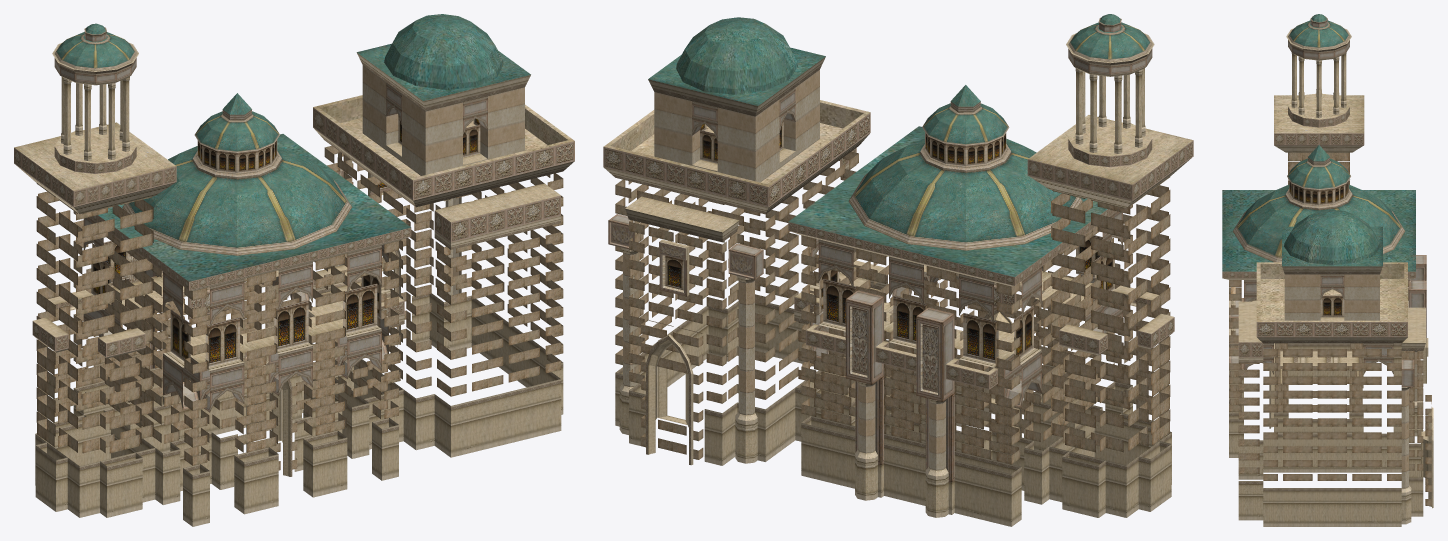
Rendered from thm_nboo_block_bldg_32x16_s02_r0_mesh_l0.fbx.
3 renders of one model, left to right at view 1: azimuth 30°, elevation 25°; view 2: azimuth 150°, elevation 25°; view 3: azimuth 270°, elevation 25°, orthographic. The views are drawn at different scales.
Visible parts, largest first — view 1: mesh_node; view 2: mesh_node; view 3: mesh_node.
Boxes of the visible parts, x1,y1,x2,y2 form: mesh_node: [14, 14, 574, 526]; mesh_node: [603, 14, 1193, 526]; mesh_node: [1222, 14, 1433, 526].
Bounding box in the file's own units: 32.07 × 29.27 × 15.88.
